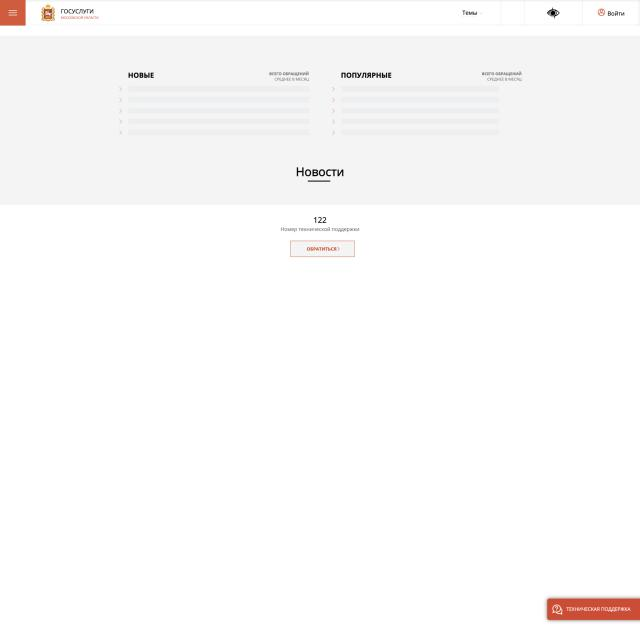logo: (37, 3, 101, 22)
navigation: (0, 0, 25, 25), (8, 9, 18, 17)
